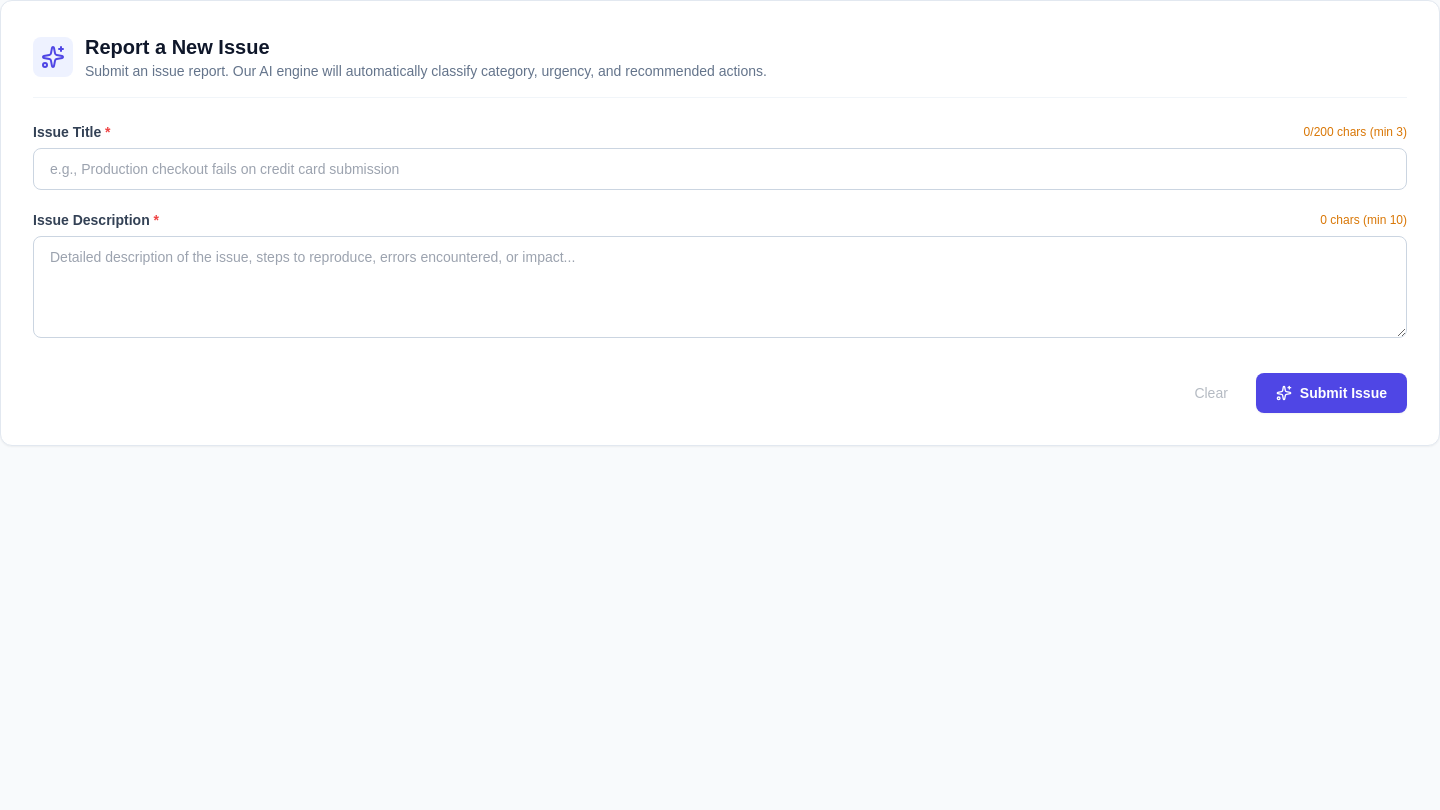
Test: IssueForm Component › submits valid inputs to issueService and renders success banner with AI analysis
Type "Login button unresponsive" into the field labelled "Issue Title *" at (720, 169), box [33,148,1407,190]
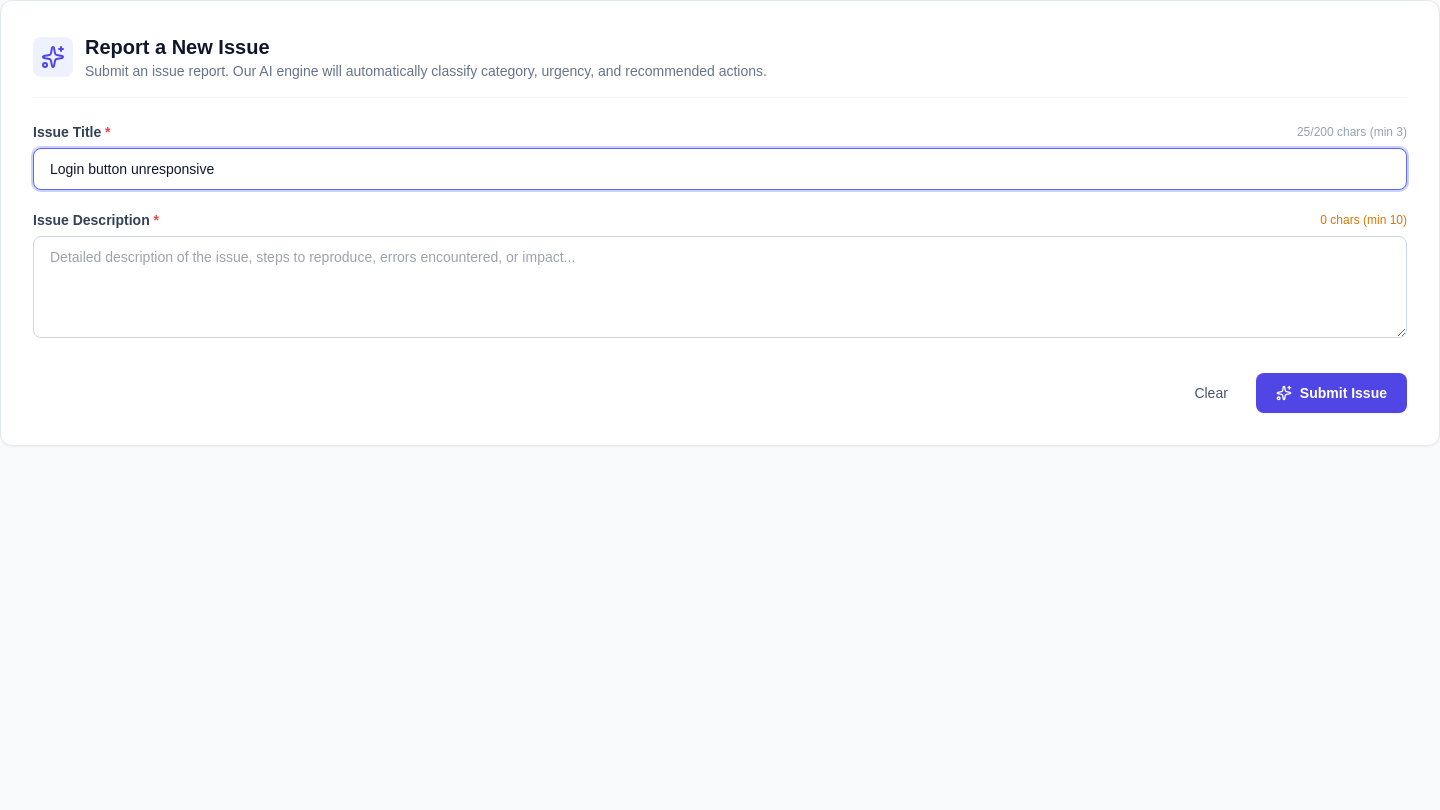
Type "When clicking the login button on mobile Safari, nothing happens." into the text box labelled "Issue Description *" at (720, 287), box [33,236,1407,338]
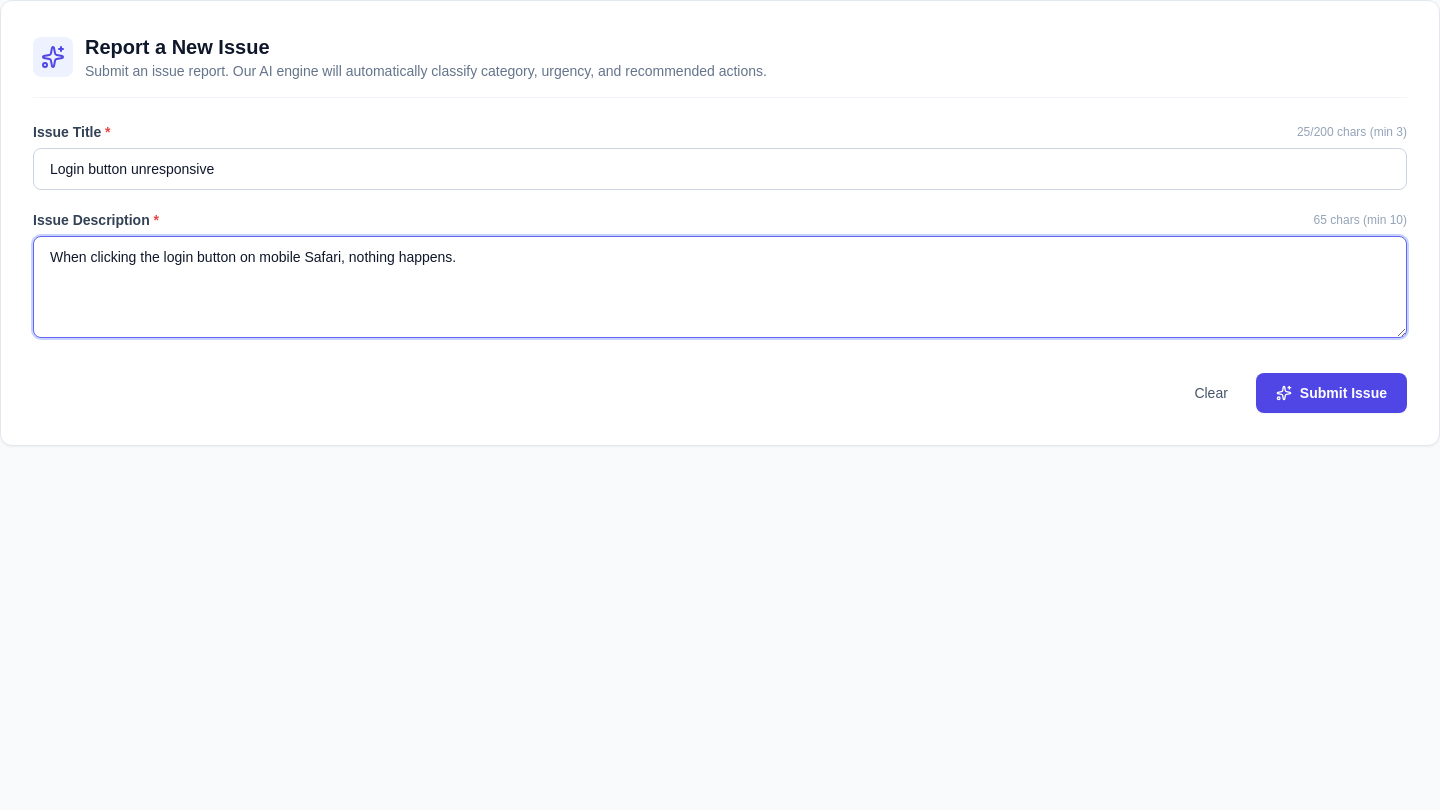
Click the button with test id "submit-issue-button" at (1331, 393), box [1256,373,1407,413]
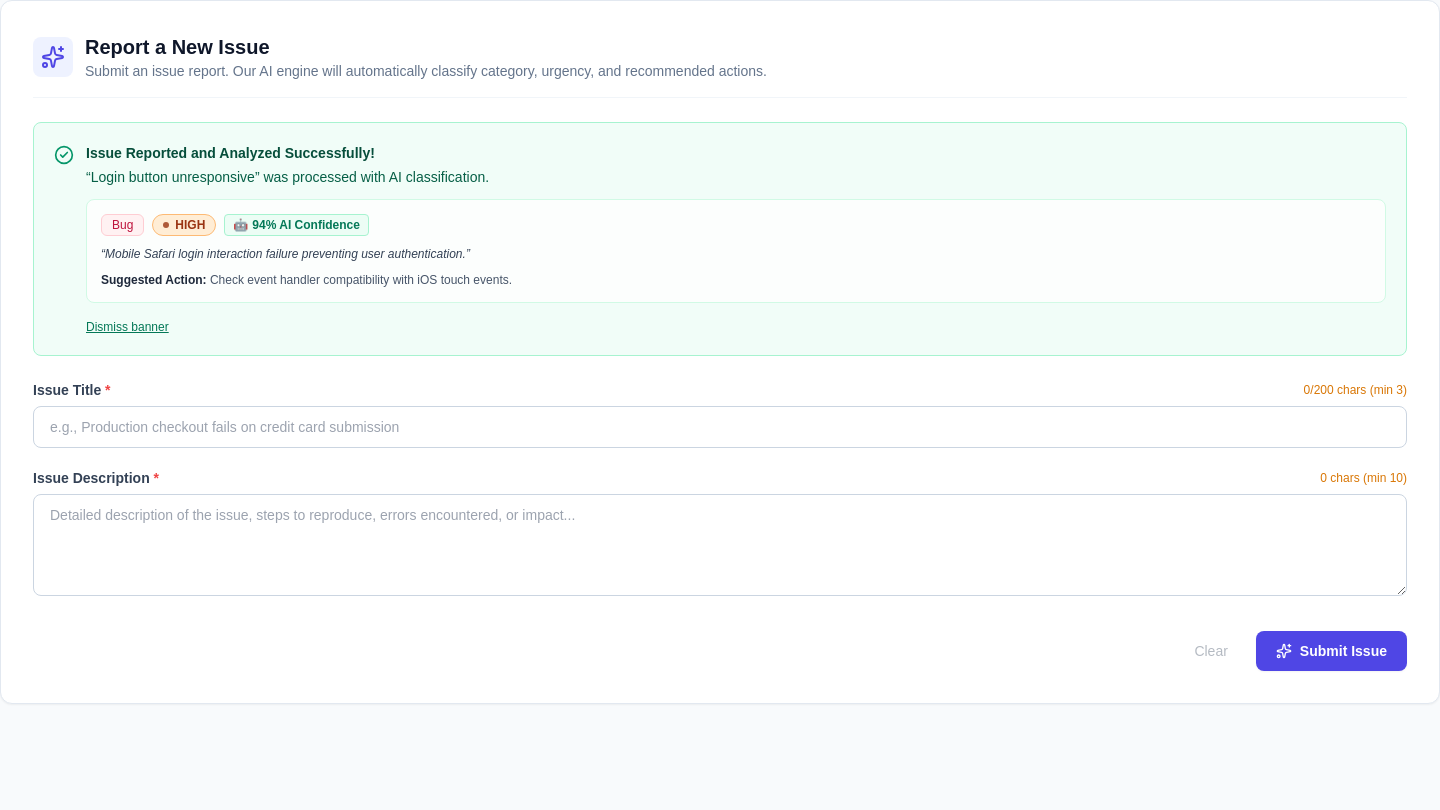
Expected: the field labelled "Issue Title *" is empty, [33,406,1407,448]
Expected: the text box labelled "Issue Description *" is empty, [33,494,1407,596]
Expected: the element with test id "issue-success-banner" is shown, [33,122,1407,356]
